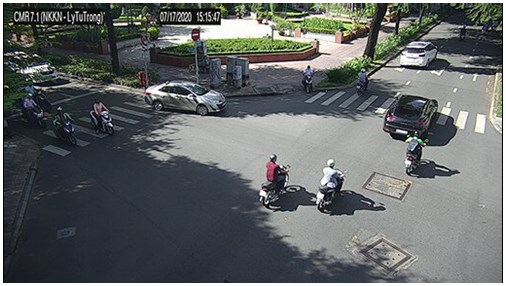xe_hoi: (144, 79, 226, 115), (384, 94, 438, 140), (17, 53, 58, 83), (400, 41, 439, 68)
xe_may: (313, 158, 345, 212), (259, 153, 290, 207), (52, 106, 80, 147), (90, 98, 115, 137), (403, 131, 425, 175), (21, 93, 47, 130), (24, 82, 51, 111), (302, 65, 315, 93), (356, 68, 369, 95), (460, 25, 468, 44)
